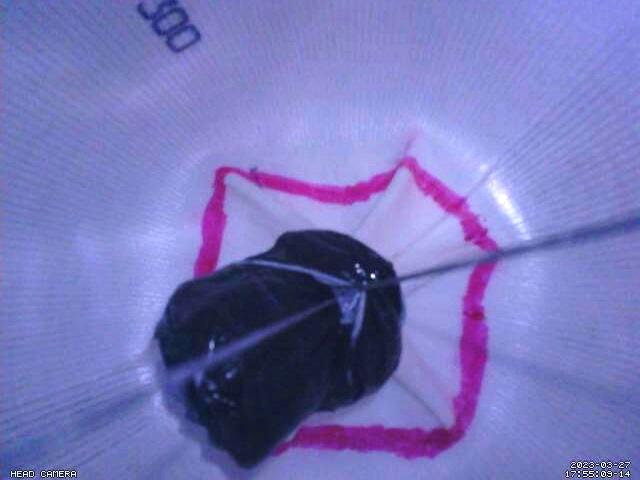red-circle: (190, 154, 500, 462)
